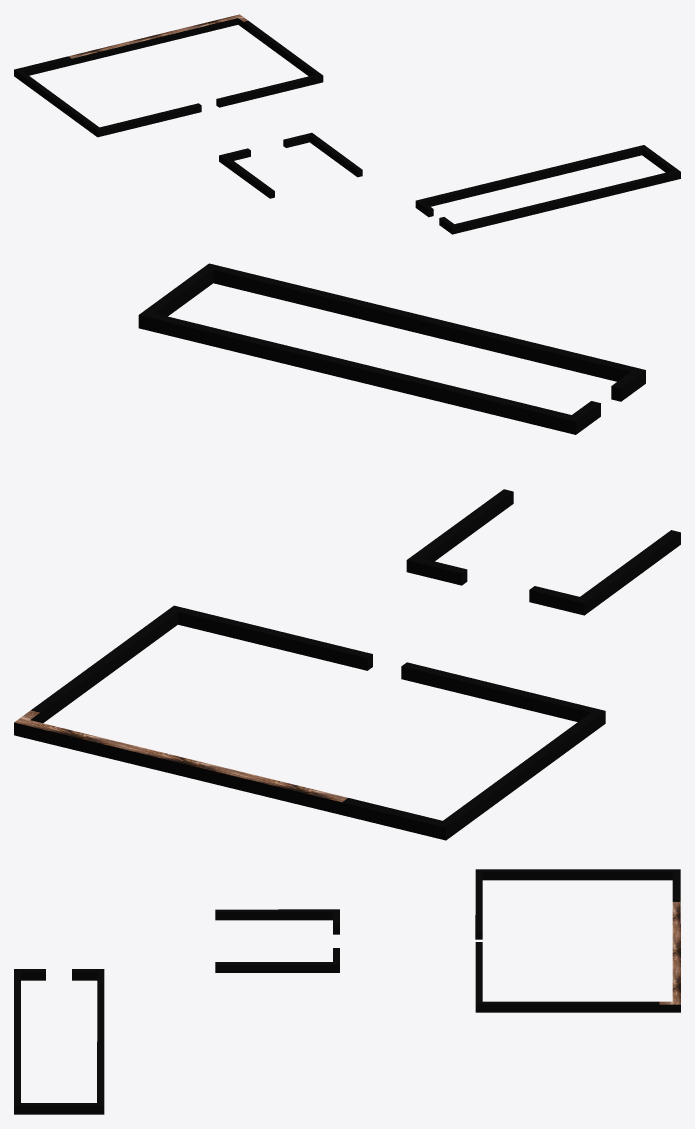
The model's file is Bushes wall.fbx.
3 views of the same model, one above another, from view 1: azimuth 30°, elevation 25°; view 2: azimuth 150°, elevation 25°; view 3: azimuth 270°, elevation 25° (orthographic). The views are drawn at different scales.
Visible parts, largest first — view 1: Bushes_wall; view 2: Bushes_wall; view 3: Bushes_wall.
Part boxes in pixels (x1,y1,x2,y2): Bushes_wall: (14,14,680,234); Bushes_wall: (14,263,680,840); Bushes_wall: (14,869,680,1114).
Bounding box in the file's own units: 11169 × 190 × 13285.
